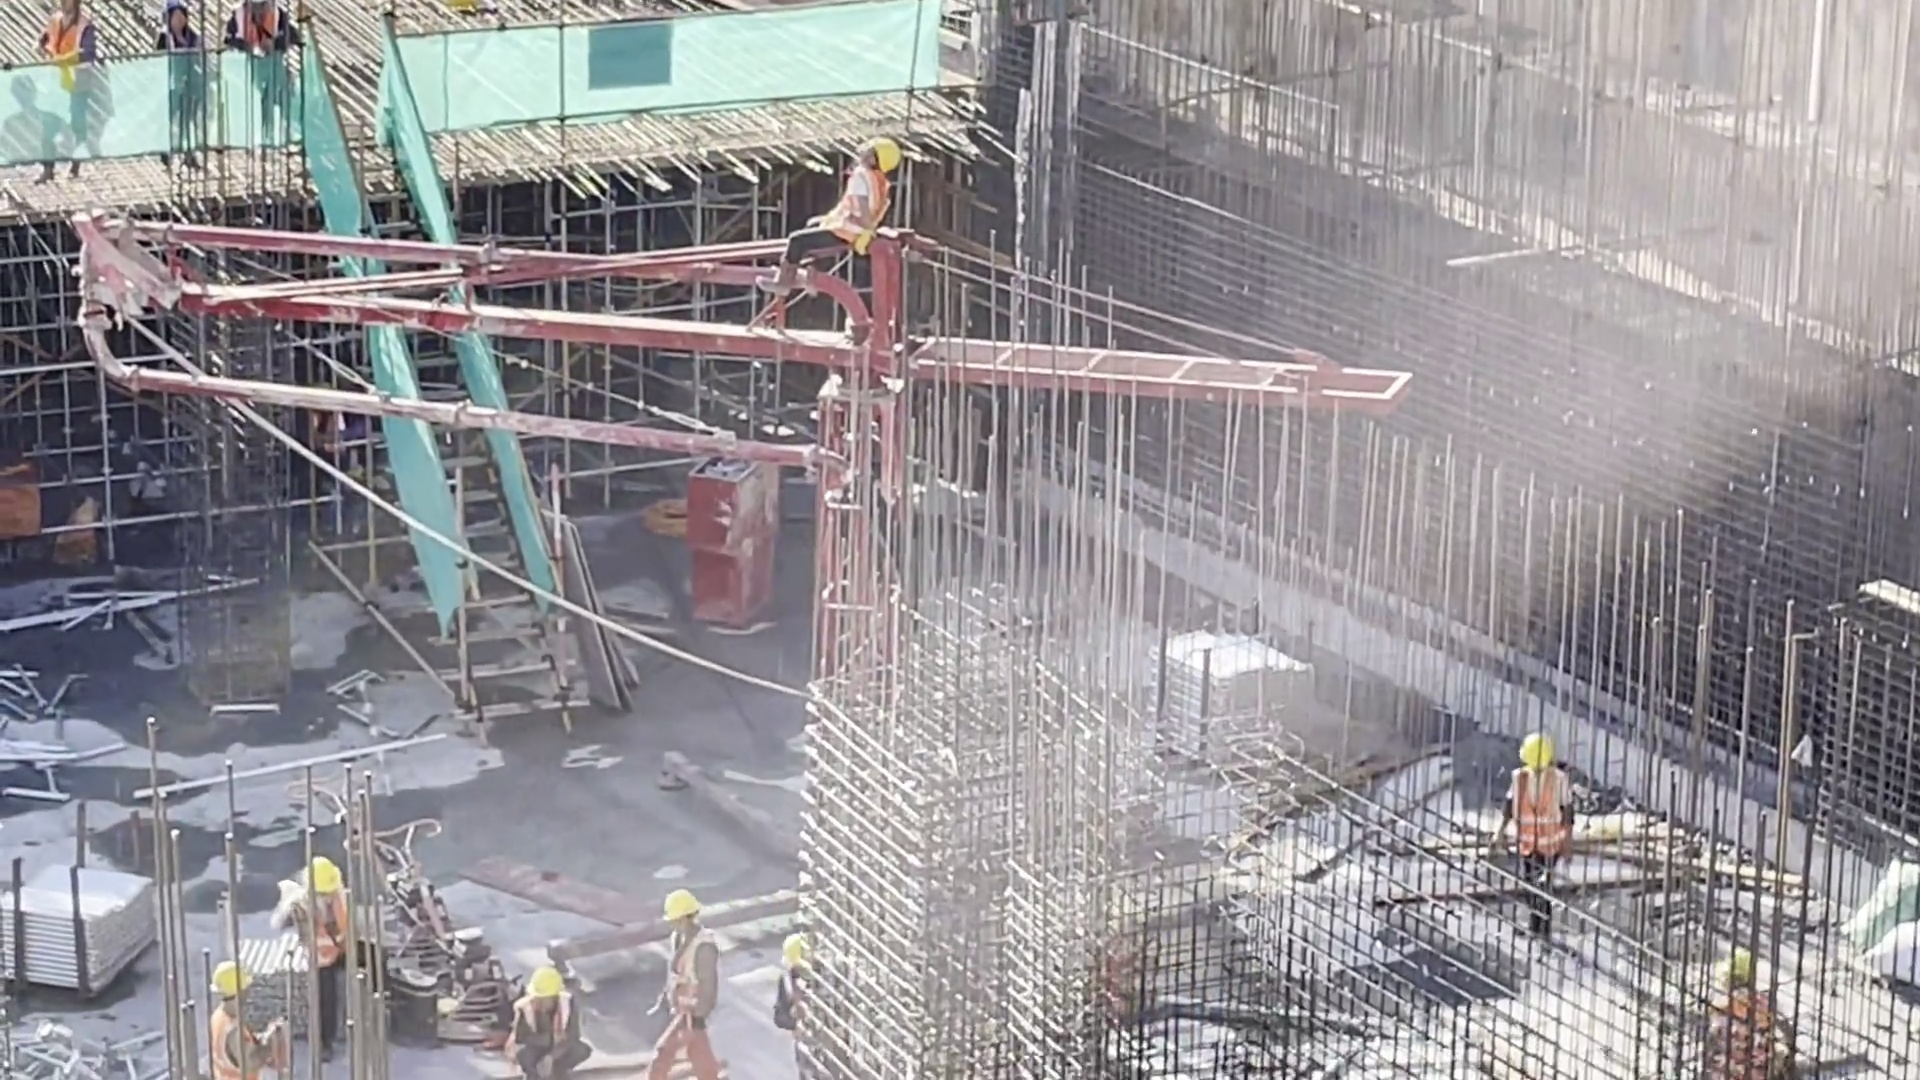helmet: (215, 946, 260, 998), (651, 880, 696, 923), (306, 858, 355, 895), (532, 957, 567, 1004), (781, 931, 821, 964), (156, 1, 200, 26), (1725, 943, 1752, 982), (1528, 730, 1558, 765), (859, 145, 904, 164)
person: (762, 139, 886, 345), (273, 858, 381, 1030), (1492, 734, 1589, 924), (644, 894, 731, 1080), (1686, 949, 1801, 1080), (34, 1, 100, 183), (237, 1, 312, 160), (149, 5, 218, 175), (485, 964, 581, 1075), (754, 926, 837, 1043), (195, 937, 261, 1080)
scaffold: (1150, 622, 1330, 756), (4, 866, 153, 989), (233, 932, 328, 1045)
vest: (289, 888, 362, 979), (665, 929, 725, 1015), (836, 168, 893, 250), (512, 1008, 584, 1065), (1522, 772, 1571, 853), (205, 1010, 263, 1073), (228, 11, 299, 58), (1729, 996, 1767, 1078), (48, 22, 105, 73), (161, 27, 210, 67)
